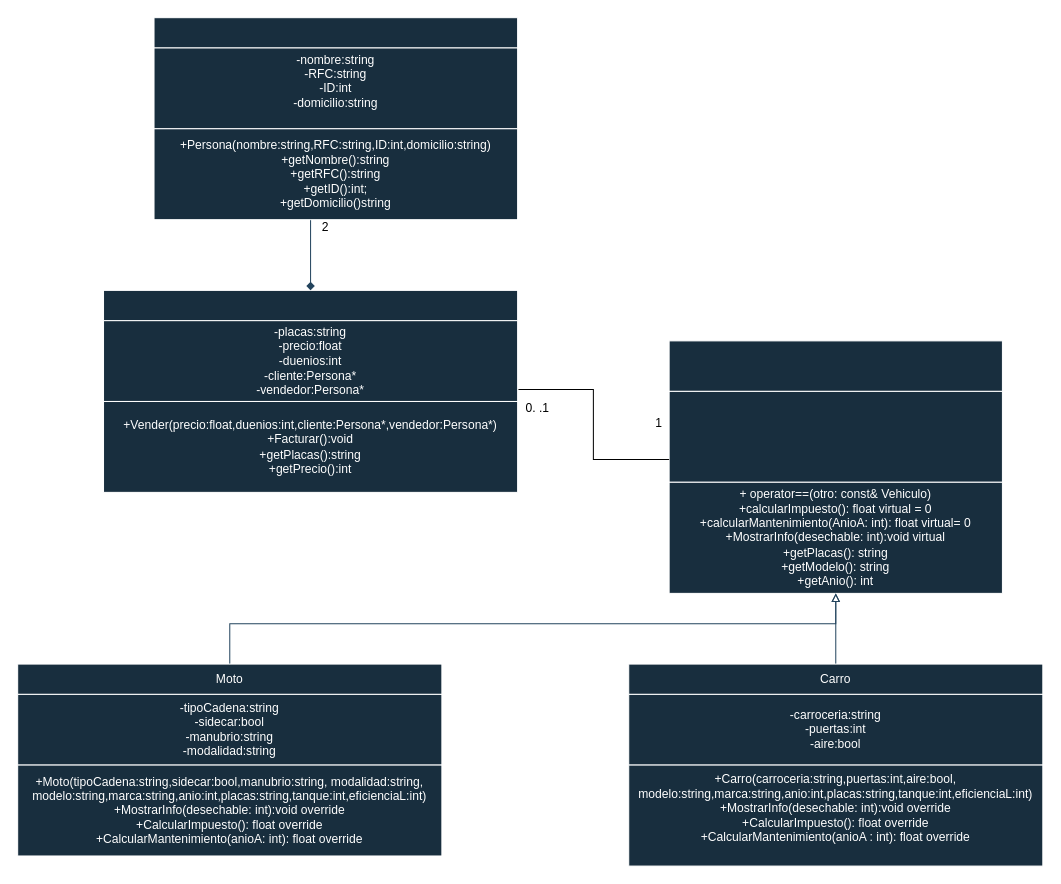
Image size: 1061x884. Some labels were removed from this diagram. Here are the shapes that lost their labels. From the top down, the centre of each, then its label:
At (335,32): "Persona".
At (310,305): "Vender".
At (835,365): "abstract Vehiculo".
At (835,436): "#modelo: string #anio:int #placas:string #tanque:int #eficienciaL:int".
